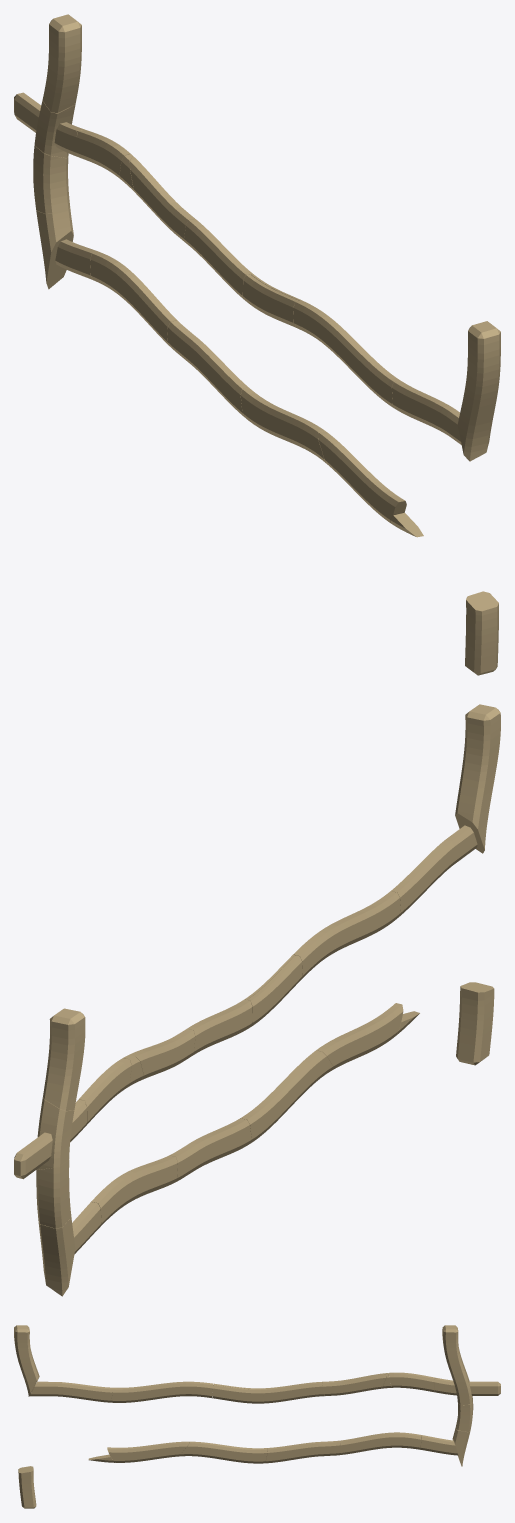
The model's file is WoodenFenceEgyptBroken.fbx.
3 views of the same model, one above another, from view 1: azimuth 30°, elevation 25°; view 2: azimuth 150°, elevation 25°; view 3: azimuth 270°, elevation 25° (orthographic). The views are drawn at different scales.
Parts seen in each view (by area): view 1: Cube_cell.001, Cube_cell.004, Cube_cell.015, Cube_cell.009, Cube_cell.006, Cube_cell.018, Cube_cell.017, Cube_cell.011, Cube_cell.016, Cube_cell.003, Cube_cell.005, Cube_cell.002 (+6 smaller); view 2: Cube_cell.001, Cube_cell.015, Cube_cell.004, Cube_cell.018, Cube_cell.017, Cube_cell.009, Cube_cell.016, Cube_cell.006, Cube_cell.011, Cube_cell, Cube_cell.003, Cube_cell.005 (+6 smaller); view 3: Cube_cell.004, Cube_cell.017, Cube_cell.009, Cube_cell.016, Cube_cell.006, Cube_cell.011, Cube_cell.001, Cube_cell.002, Cube_cell.005, Cube_cell.021, Cube_cell.015, Cube_cell.007 (+6 smaller).
Boxes of the visible parts, bbox=[...] form: Cube_cell.001: bbox=[457, 321, 500, 461]; Cube_cell.004: bbox=[293, 300, 399, 408]; Cube_cell.015: bbox=[42, 14, 81, 113]; Cube_cell.009: bbox=[90, 251, 176, 345]; Cube_cell.006: bbox=[318, 431, 406, 522]; Cube_cell.018: bbox=[465, 591, 498, 675]; Cube_cell.017: bbox=[240, 387, 328, 465]; Cube_cell.011: bbox=[167, 320, 247, 417]; Cube_cell.016: bbox=[392, 380, 461, 444]; Cube_cell.003: bbox=[33, 145, 70, 213]; Cube_cell.005: bbox=[184, 219, 252, 299]; Cube_cell.002: bbox=[130, 156, 194, 242]; Cube_cell.001: bbox=[455, 704, 500, 853]; Cube_cell.015: bbox=[43, 1008, 85, 1110]; Cube_cell.004: bbox=[293, 891, 400, 979]; Cube_cell.018: bbox=[456, 982, 494, 1065]; Cube_cell.017: bbox=[240, 1050, 333, 1143]; Cube_cell.009: bbox=[91, 1155, 177, 1227]; Cube_cell.016: bbox=[391, 825, 477, 916]; Cube_cell.006: bbox=[316, 1003, 403, 1069]; Cube_cell.011: bbox=[170, 1118, 251, 1182]; Cube_cell: bbox=[38, 1217, 75, 1296]; Cube_cell.003: bbox=[36, 1160, 71, 1228]; Cube_cell.005: bbox=[187, 999, 252, 1055]; Cube_cell.004: bbox=[111, 1381, 212, 1402]; Cube_cell.017: bbox=[178, 1441, 267, 1463]; Cube_cell.009: bbox=[340, 1432, 421, 1454]; Cube_cell.016: bbox=[30, 1381, 112, 1402]; Cube_cell.006: bbox=[107, 1441, 189, 1462]; Cube_cell.011: bbox=[265, 1440, 341, 1463]; Cube_cell.001: bbox=[14, 1325, 39, 1396]; Cube_cell.002: bbox=[322, 1373, 386, 1395]; Cube_cell.005: bbox=[263, 1381, 324, 1403]; Cube_cell.021: bbox=[434, 1378, 500, 1395]; Cube_cell.015: bbox=[442, 1325, 464, 1373]; Cube_cell.007: bbox=[212, 1384, 263, 1403].
Size of the model in its own units: 23.64 by 280 by 692.
